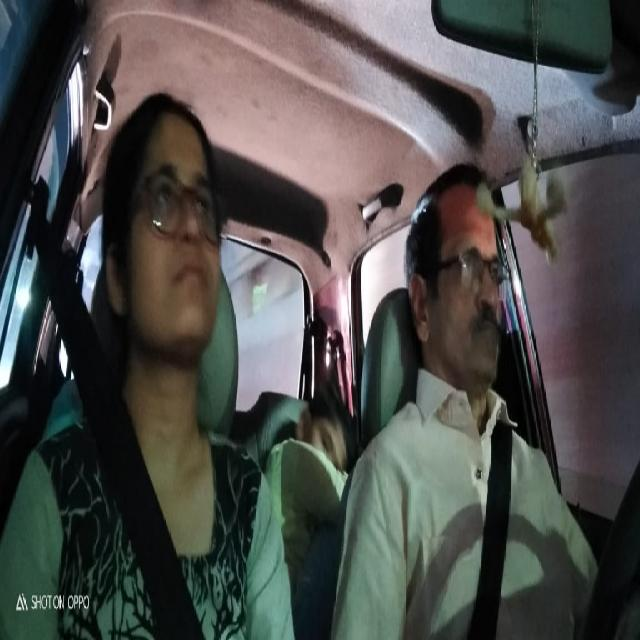person: (110, 125, 226, 355), (402, 172, 507, 392), (302, 386, 352, 476)
